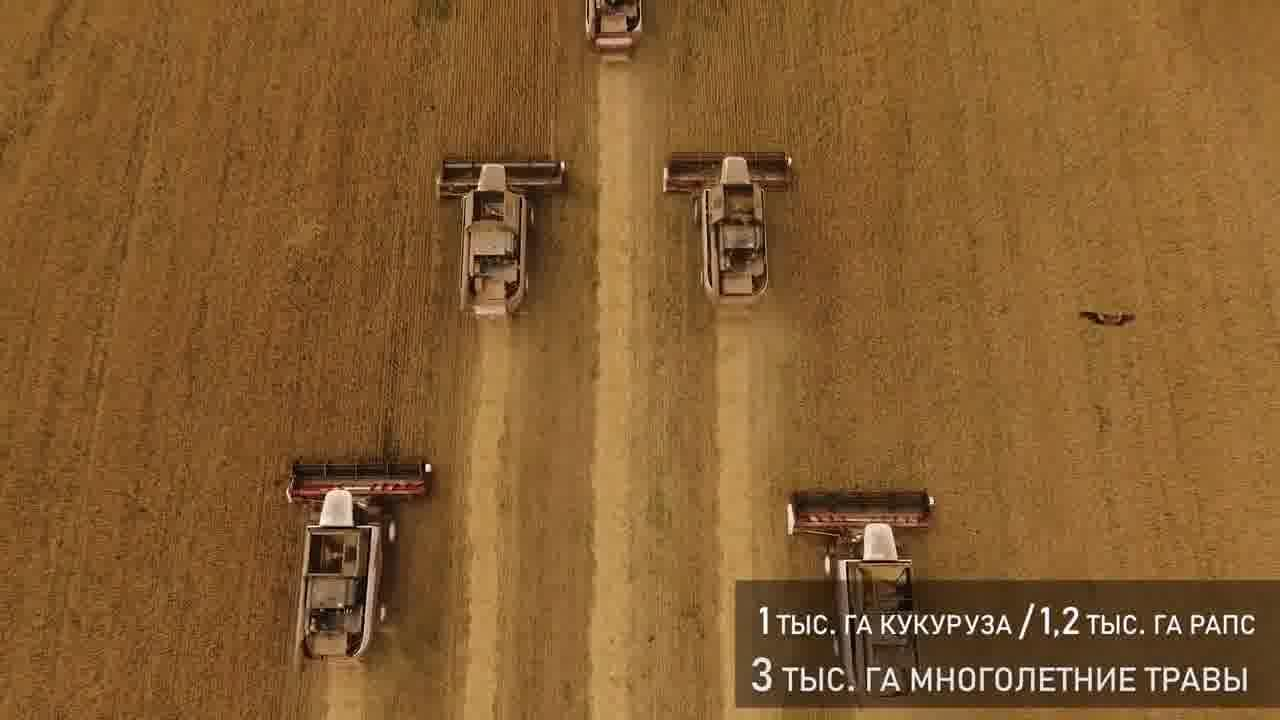combine harvester: (282, 449, 438, 669), (779, 483, 927, 710), (427, 152, 574, 325), (659, 146, 797, 311), (582, 0, 653, 66)
